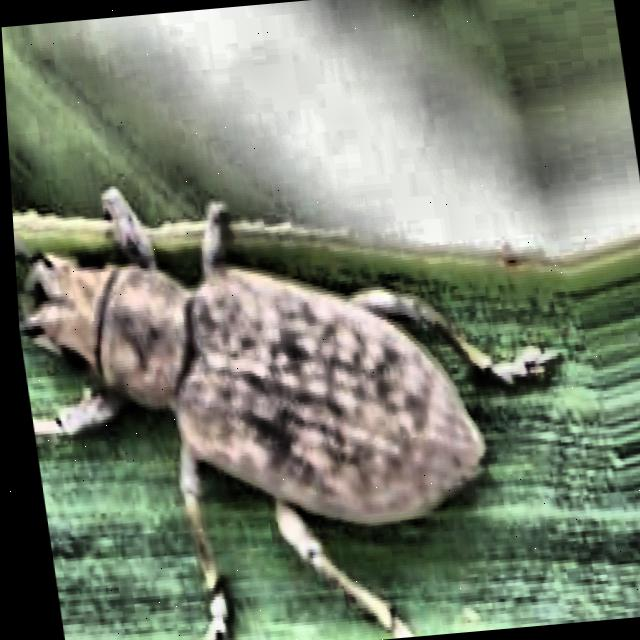Stink bug: (0, 1, 450, 640)
